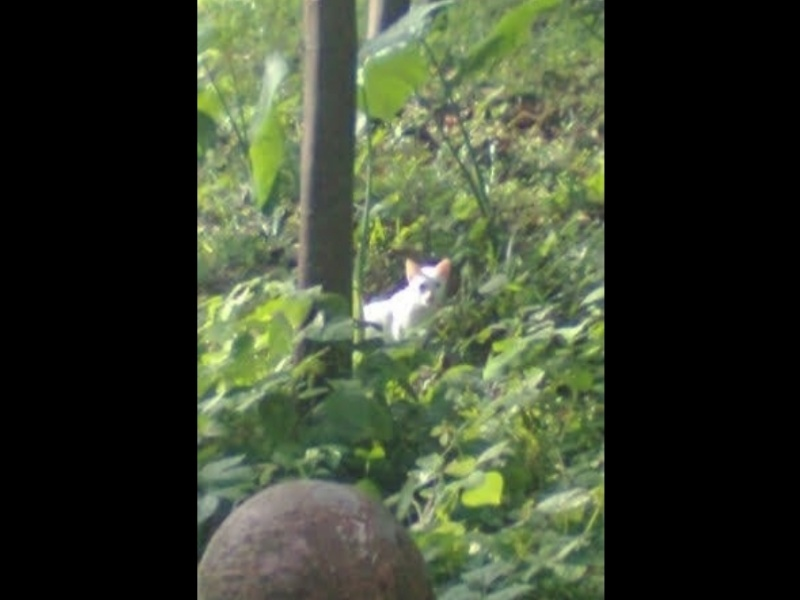cat: (350, 252, 455, 358)
